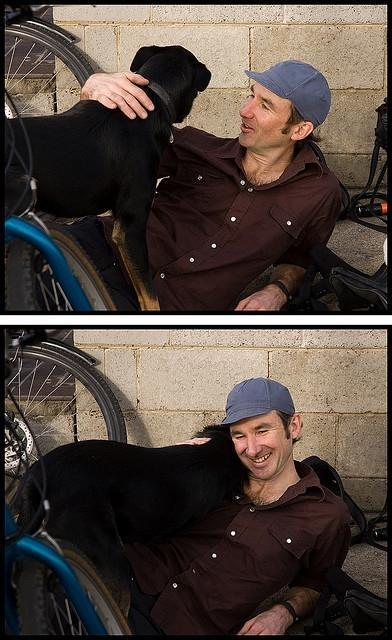bicycle: (1, 323, 123, 513), (6, 490, 136, 632), (2, 208, 120, 311), (4, 6, 104, 118)
